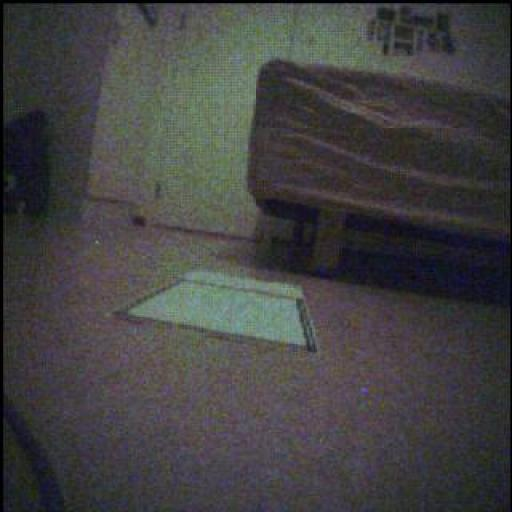pad: (118, 271, 318, 353)
